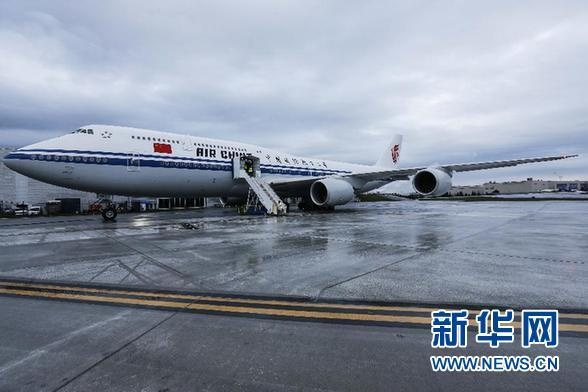airplane: (2, 122, 582, 220)
